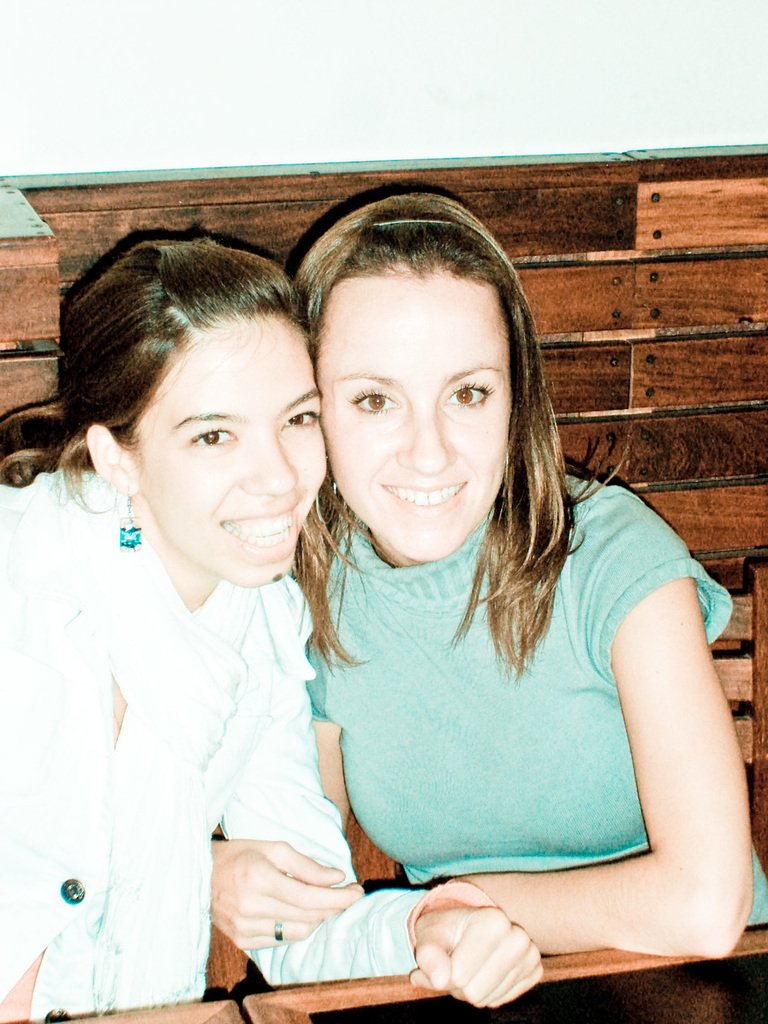Human_hand: (206, 833, 366, 951), (406, 905, 548, 1010)
